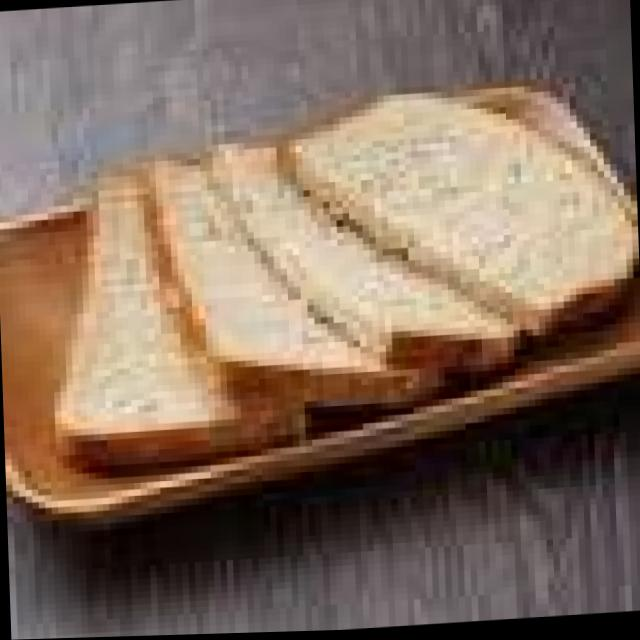Bread: (294, 89, 631, 321), (59, 167, 223, 434)
